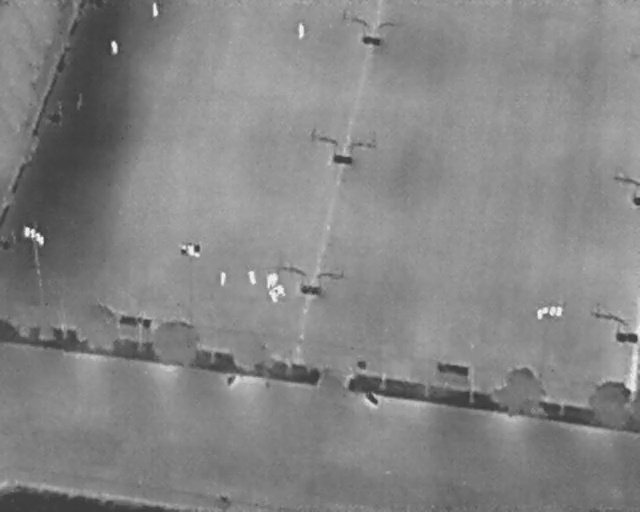Person: (247, 269, 256, 285), (269, 288, 278, 303), (297, 23, 305, 39), (110, 40, 118, 55), (276, 284, 286, 296), (152, 2, 159, 17), (266, 273, 272, 288), (220, 272, 226, 286), (272, 273, 278, 287)
